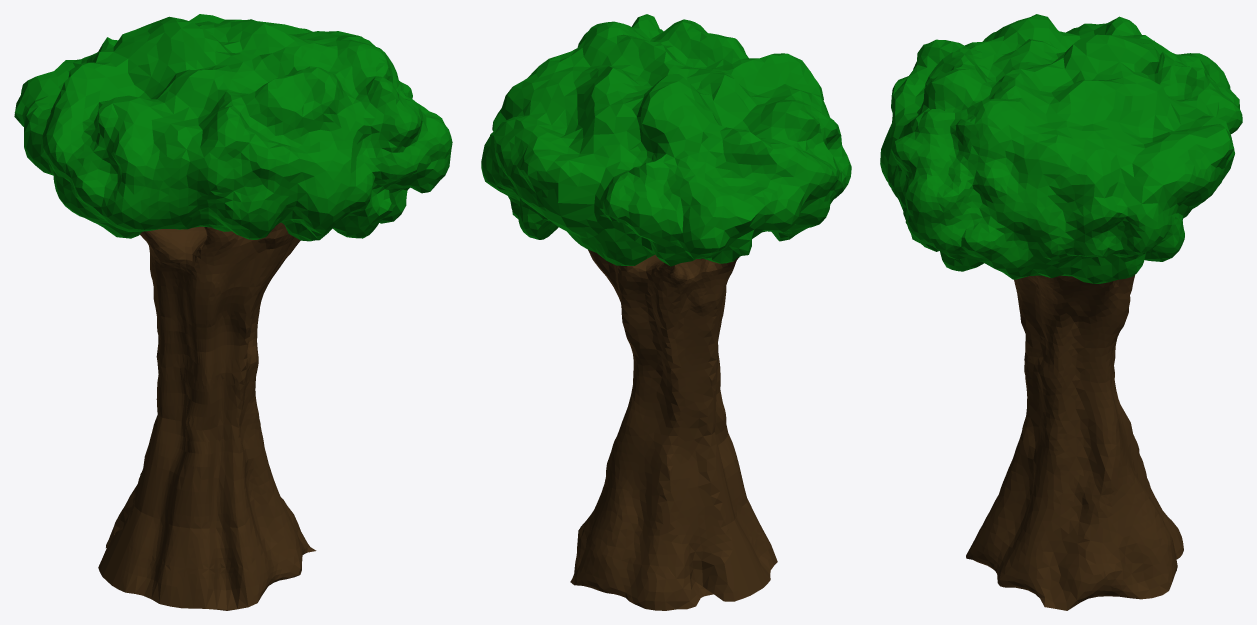
File: Foliage_Tree_0.fbx
3 renders of one model, left to right at view 1: azimuth 30°, elevation 25°; view 2: azimuth 150°, elevation 25°; view 3: azimuth 270°, elevation 25°, orthographic. The views are drawn at different scales.
Parts seen in each view (by area): view 1: Tree_0; view 2: Tree_0; view 3: Tree_0.
Part boxes in pixels (left/top/right/bottom): Tree_0: left=14, top=14, right=452, bottom=610; Tree_0: left=481, top=14, right=851, bottom=610; Tree_0: left=880, top=14, right=1242, bottom=610.
Bounding box in the file's own units: 134 × 200 × 125.
